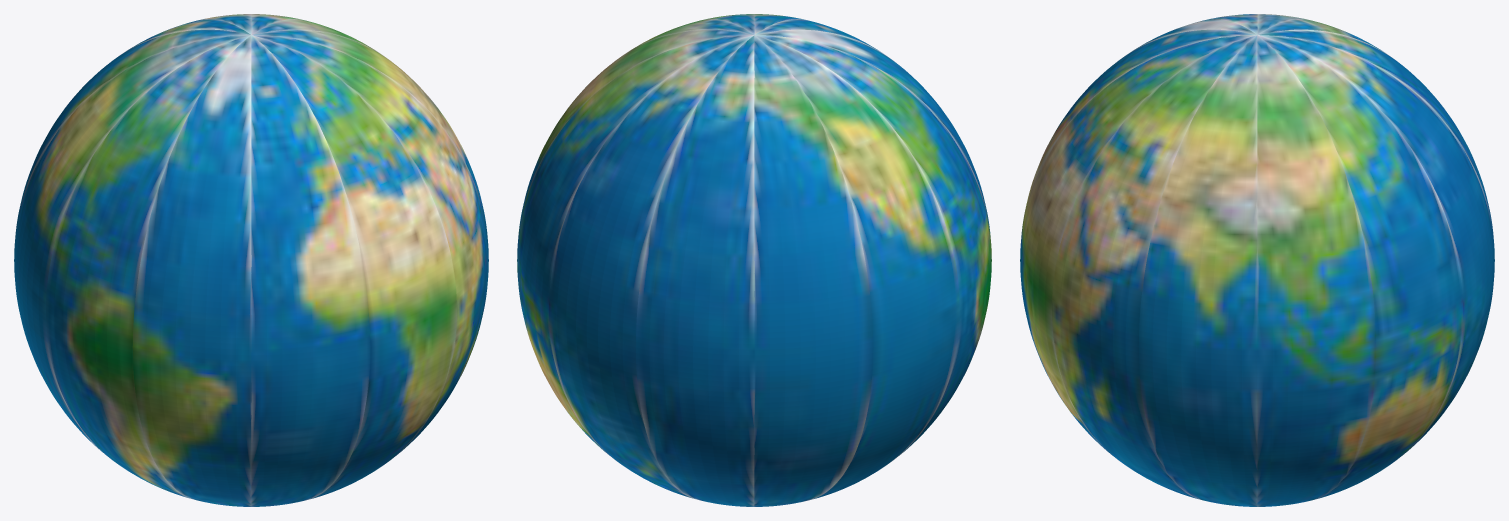
File: globus.glb
The picture shows the model from 3 angles, left to right: view 1: azimuth 30°, elevation 25°; view 2: azimuth 150°, elevation 25°; view 3: azimuth 270°, elevation 25°; orthographic projection.
Visible parts, largest first — view 1: Sphere; view 2: Sphere; view 3: Sphere.
Boxes of the visible parts, x1,y1,x2,y2 form: Sphere: (14,14,488,506); Sphere: (517,14,991,506); Sphere: (1020,14,1494,506).
Size of the model in its own units: 1.9 by 1.99 by 1.9.
1 material, 1 textured.
